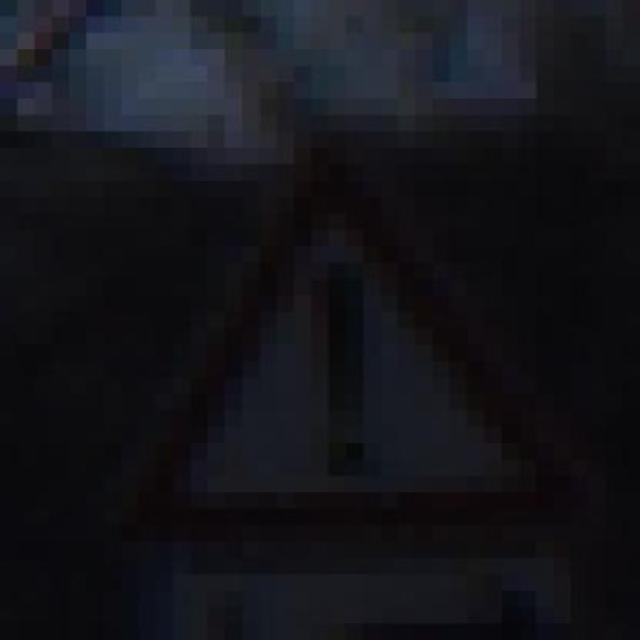Attention Please-: (86, 132, 571, 574)
